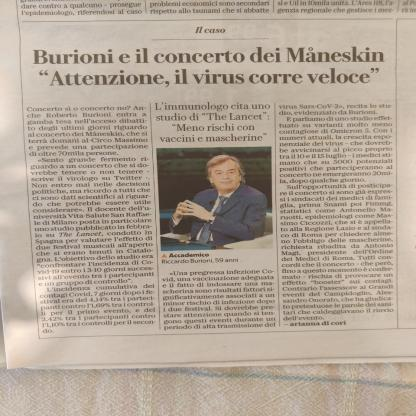immagine: (154, 146, 276, 251)
testo_col: (24, 103, 159, 339), (277, 100, 403, 322), (160, 268, 279, 334)
titolo: (25, 45, 388, 93)
